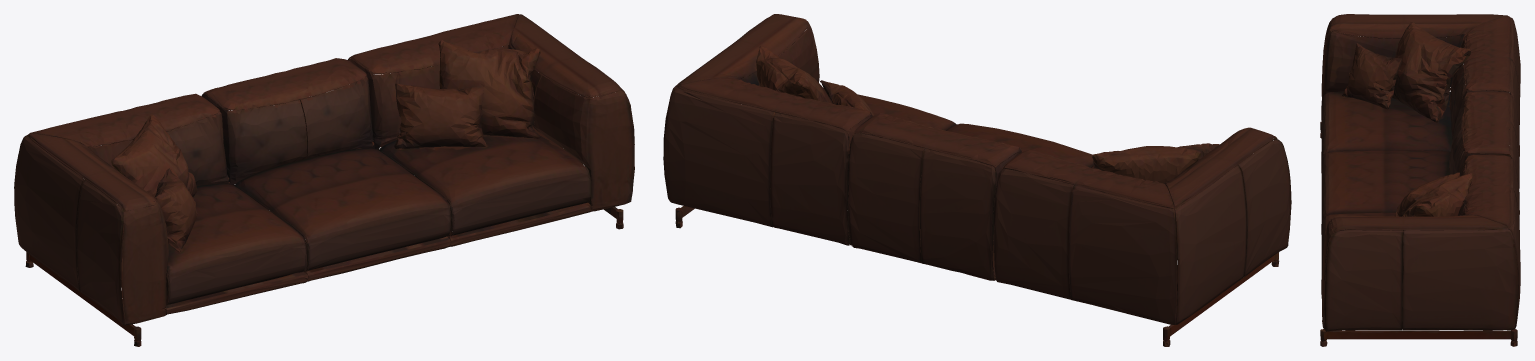
File: edited_mesh.glb
3 renders of one model, left to right at view 1: azimuth 30°, elevation 25°; view 2: azimuth 150°, elevation 25°; view 3: azimuth 270°, elevation 25°, orthographic. The views are drawn at different scales.
Parts seen in each view (by area): view 1: solid_001_wire; view 2: solid_001_wire; view 3: solid_001_wire.
Boxes of the visible parts, x1,y1,x2,y2 form: solid_001_wire: (14,14,634,346); solid_001_wire: (663,14,1291,346); solid_001_wire: (1320,14,1520,346).
Bounding box in the file's own units: 2 × 0.5532 × 0.7635.
Materials: 1 (1 with a texture image).
